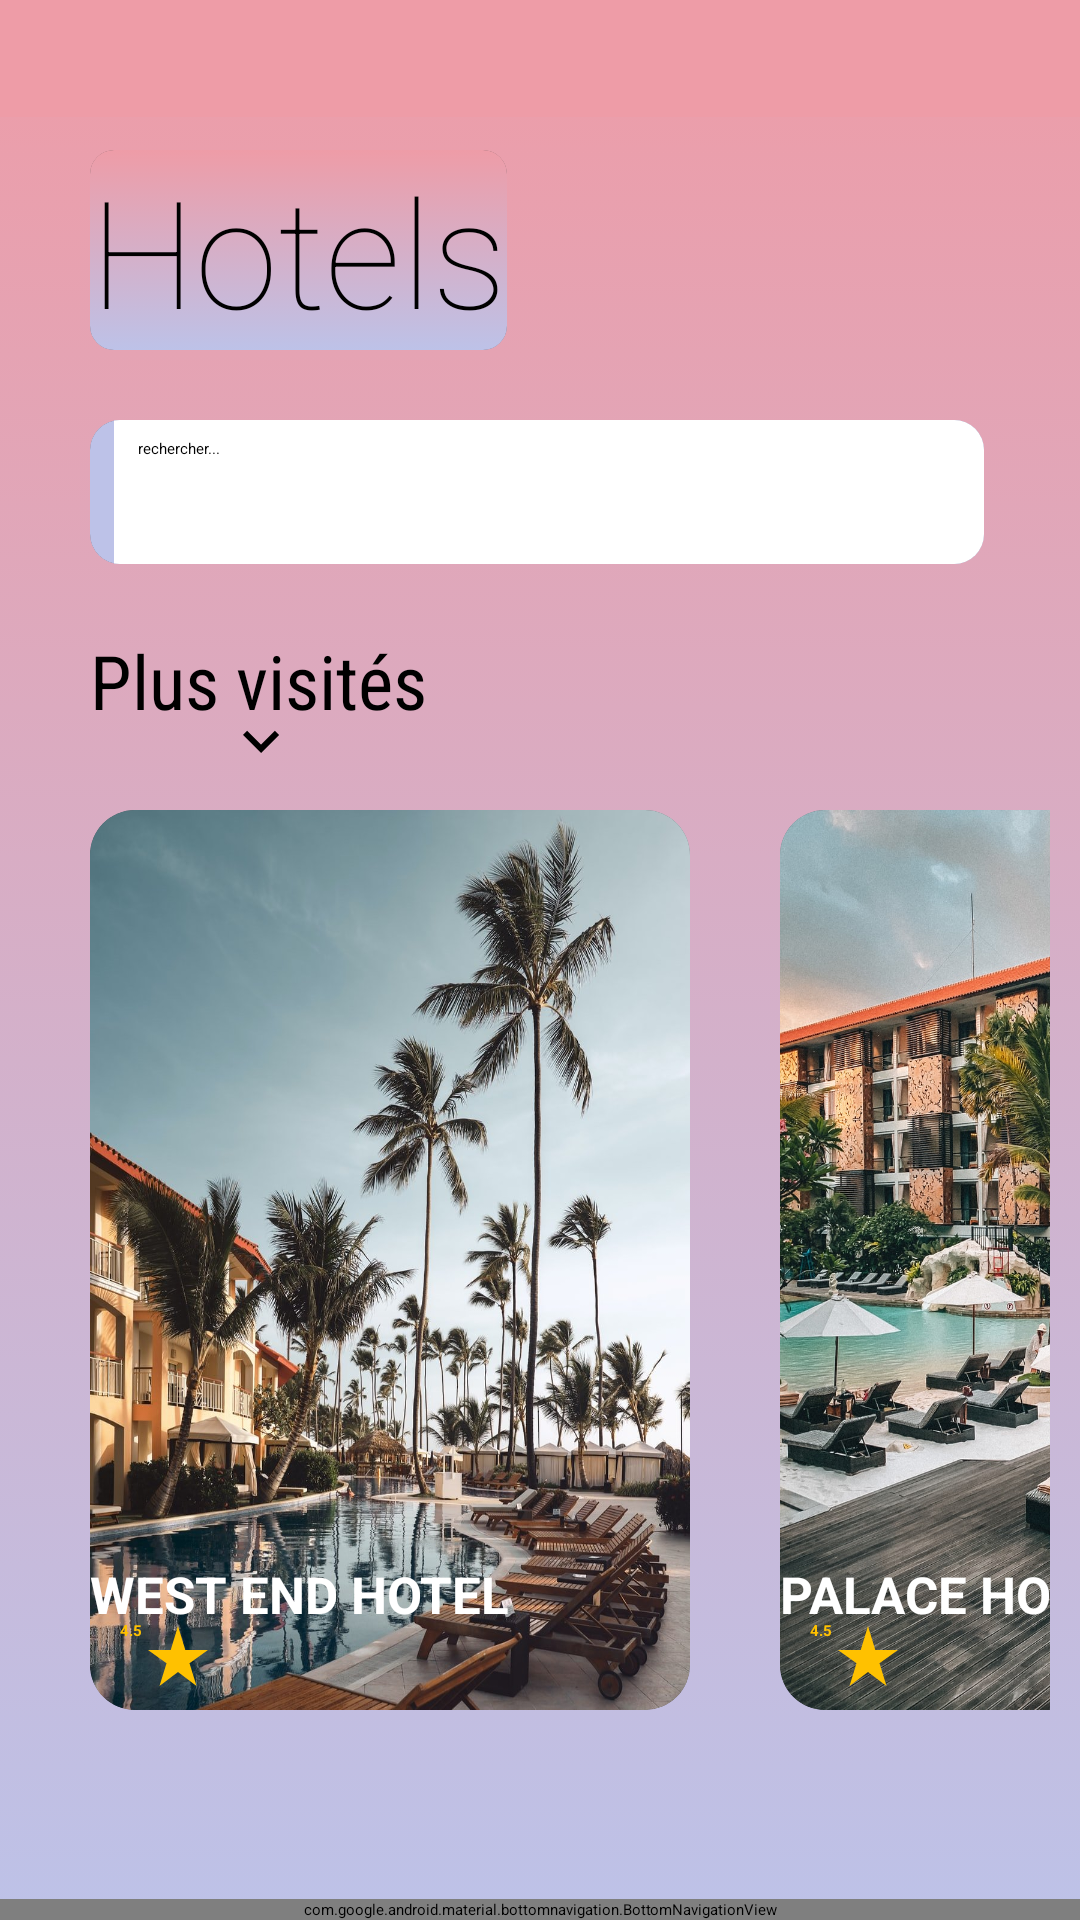

Named icons in this screenshot (1080w x 1920h) and their centers, (x,y):
down: (261,742)
